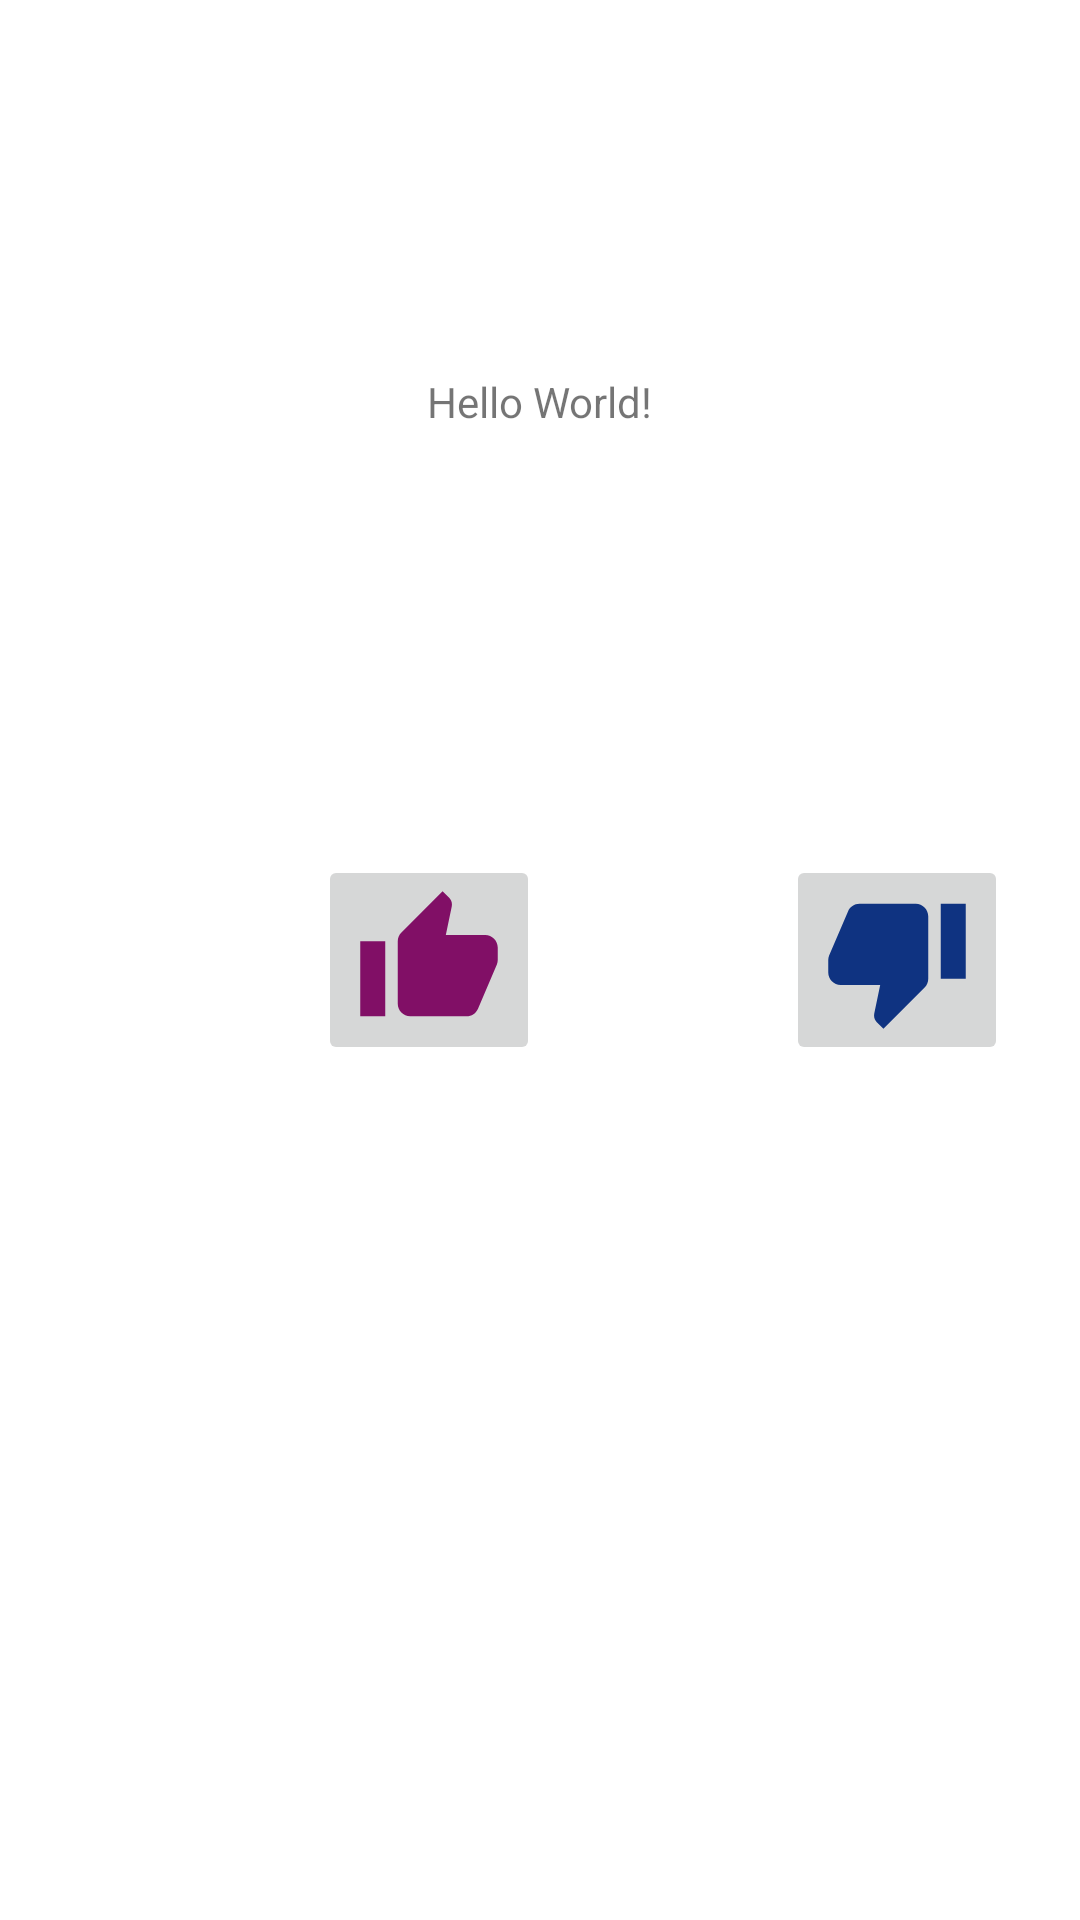

Named icons in this screenshot (1080×1920) and their bounding boxes, (x1, y1, x2, y2):
dislike: (798, 873, 996, 1047)
thumb up: (330, 873, 528, 1047)
